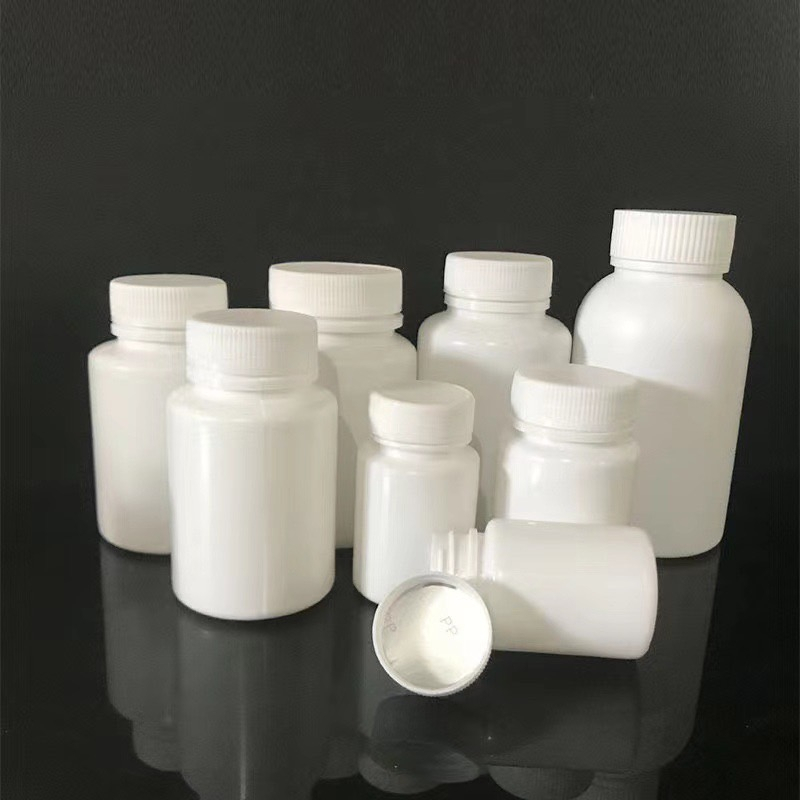medicinejar: (568, 200, 755, 567), (373, 508, 664, 707), (151, 301, 335, 615), (262, 249, 422, 599), (83, 268, 250, 567), (494, 359, 668, 629), (428, 233, 571, 549), (352, 376, 476, 608)
